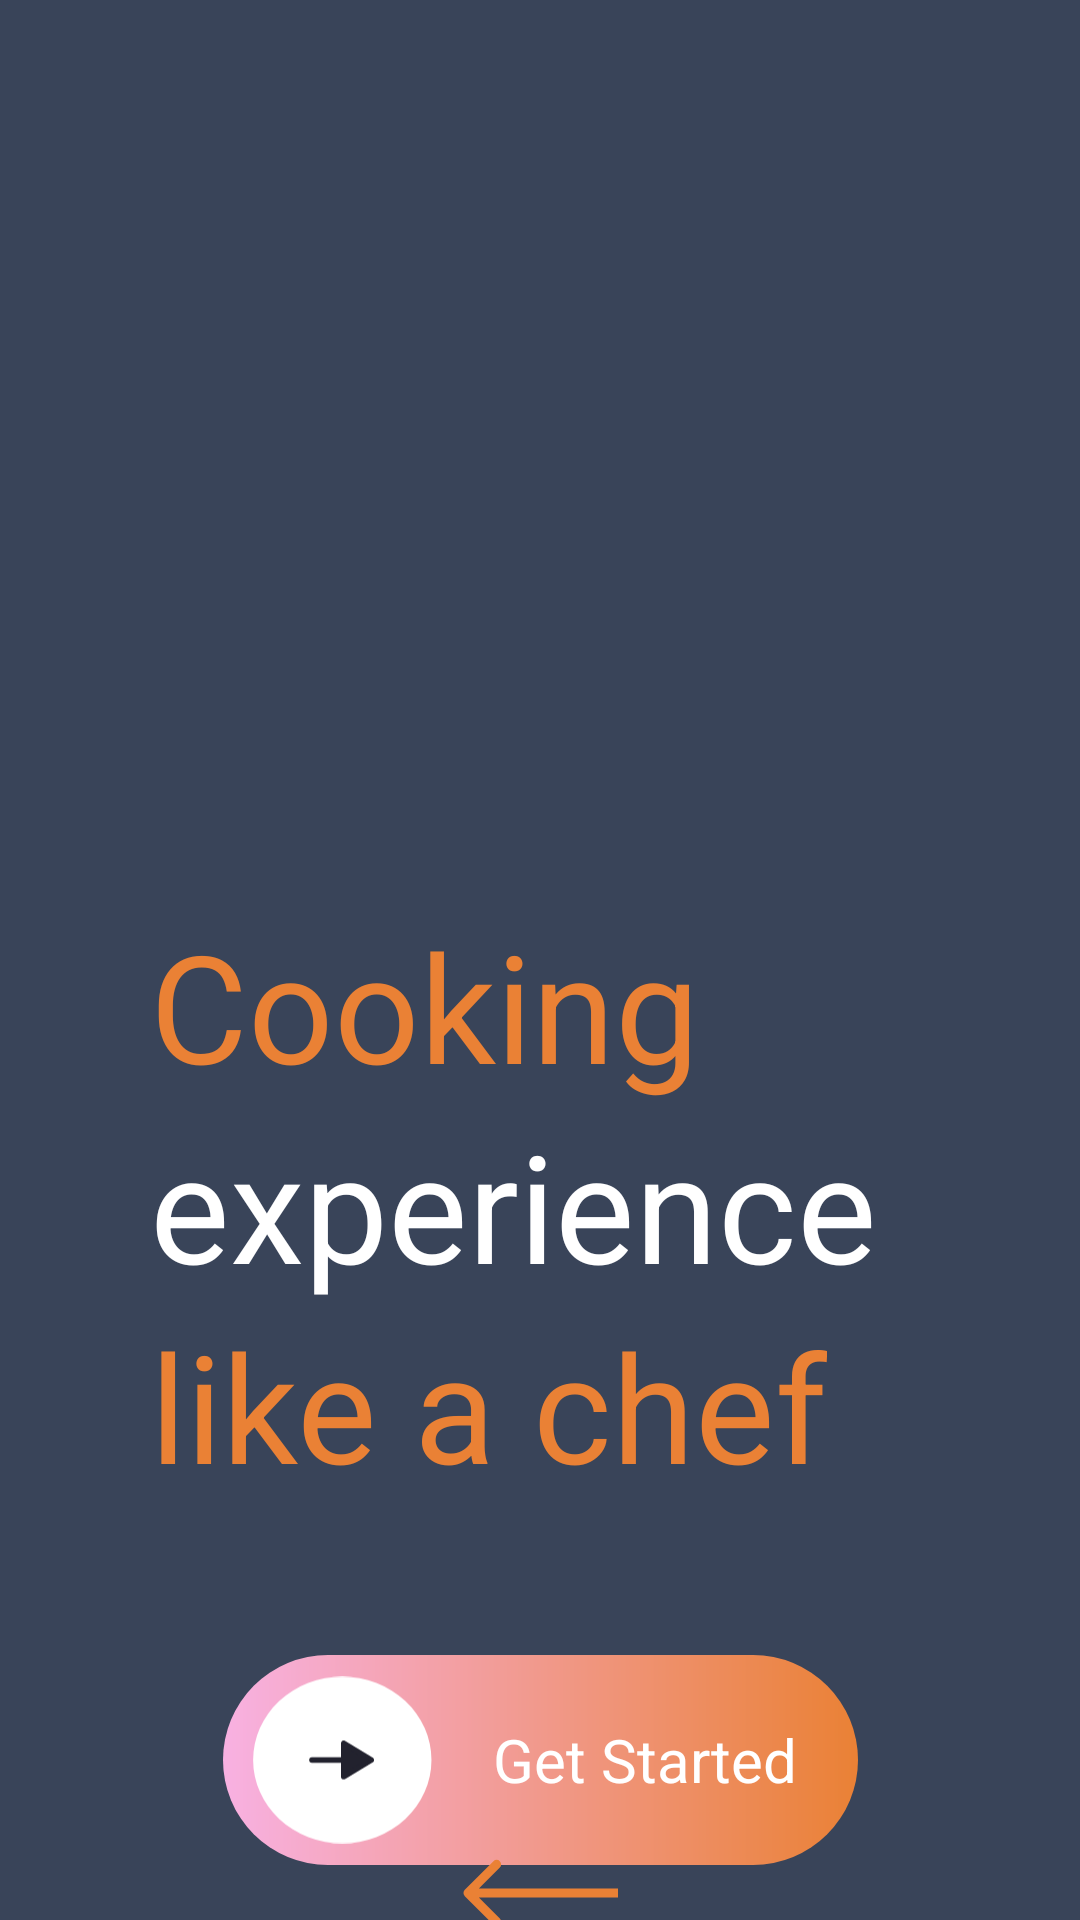

Icon click points for this 1080×1920 phone screenshot, format (x=x, y=y):
circle arrow right: (x=343, y=1760)
